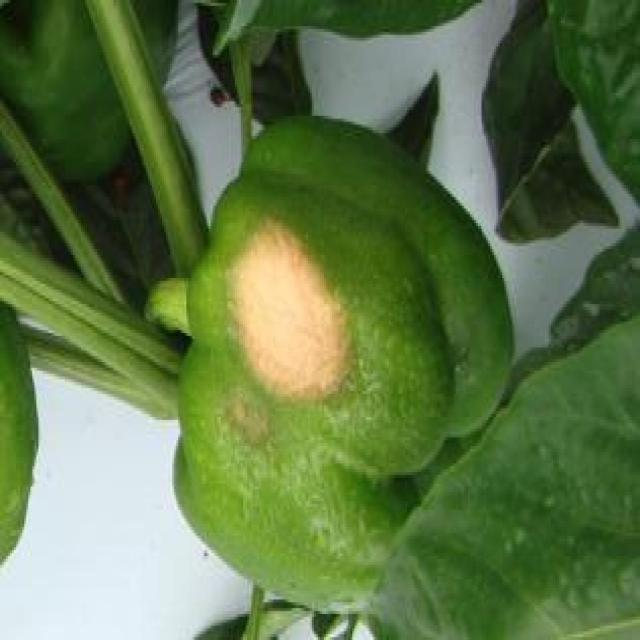Sunscald Fruit: (144, 133, 232, 297)
